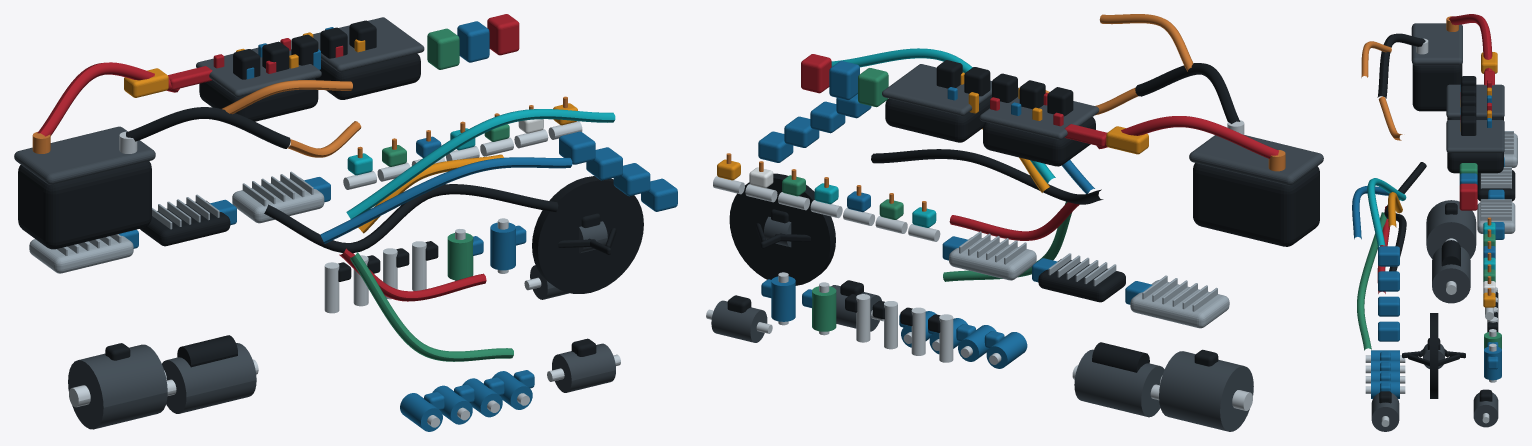
The model's file is generic_electrical_control.glb.
3 views of the same model, side by side, from view 1: azimuth 30°, elevation 25°; view 2: azimuth 150°, elevation 25°; view 3: azimuth 270°, elevation 25° (orthographic). The views are drawn at different scales.
Visible parts, largest first — view 1: system_mesh__radiator_fan__shroud, system_mesh__battery__case, system_mesh__alternator__motor_case, system_mesh__battery__top, system_mesh__starter_motor__motor_case, system_mesh__engine_harness__loom, system_mesh__sensor_harness__loom, system_mesh__transmission_solenoids__coil_body (×4), system_mesh__abs_harness__loom, system_mesh__interior_fuse_box__junction_box, system_mesh__interior_fuse_box__service_lid, system_mesh__engine_fuse_box__junction_box (+31 smaller); view 2: system_mesh__battery__case, system_mesh__radiator_fan__shroud, system_mesh__alternator__motor_case, system_mesh__starter_motor__motor_case, system_mesh__battery__top, system_mesh__engine_fuse_box__junction_box, system_mesh__interior_fuse_box__junction_box, system_mesh__interior_fuse_box__service_lid, system_mesh__engine_harness__loom, system_mesh__engine_fuse_box__service_lid, system_mesh__ecm__sealed_case, system_mesh__main_positive_cable__b_plus (+30 smaller); view 3: system_mesh__alternator__motor_case, system_mesh__battery__case, system_mesh__battery__top, system_mesh__interior_fuse_box__service_lid, system_mesh__starter_motor__motor_case, system_mesh__engine_fuse_box__service_lid, system_mesh__transmission_harness__loom, system_mesh__interior_fuse_box__junction_box, system_mesh__transmission_solenoids__coil_body (×4), system_mesh__main_negative_cable__negative, system_mesh__abs_pump__motor_case, system_mesh__sensor_harness__loom (+30 smaller).
Part boxes in pixels (x1=…): system_mesh__radiator_fan__shroud: x1=532, y1=176, x2=643, y2=293; system_mesh__battery__case: x1=18, y1=161, x2=151, y2=249; system_mesh__alternator__motor_case: x1=68, y1=344, x2=167, y2=429; system_mesh__battery__top: x1=14, y1=126, x2=155, y2=184; system_mesh__starter_motor__motor_case: x1=162, y1=343, x2=256, y2=413; system_mesh__engine_harness__loom: x1=264, y1=184, x2=558, y2=253; system_mesh__sensor_harness__loom: x1=346, y1=109, x2=615, y2=218; system_mesh__transmission_solenoids__coil_body (×4): x1=400, y1=371, x2=532, y2=431; system_mesh__abs_harness__loom: x1=320, y1=157, x2=572, y2=243; system_mesh__interior_fuse_box__junction_box: x1=315, y1=53, x2=420, y2=99; system_mesh__interior_fuse_box__service_lid: x1=313, y1=17, x2=424, y2=72; system_mesh__engine_fuse_box__junction_box: x1=199, y1=78, x2=318, y2=121; system_mesh__battery__case: x1=1193, y1=163, x2=1319, y2=246; system_mesh__radiator_fan__shroud: x1=729, y1=173, x2=835, y2=285; system_mesh__alternator__motor_case: x1=1159, y1=351, x2=1253, y2=431; system_mesh__starter_motor__motor_case: x1=1074, y1=349, x2=1164, y2=417; system_mesh__battery__top: x1=1189, y1=135, x2=1323, y2=185; system_mesh__engine_fuse_box__junction_box: x1=983, y1=117, x2=1095, y2=166; system_mesh__interior_fuse_box__junction_box: x1=885, y1=95, x2=991, y2=142; system_mesh__interior_fuse_box__service_lid: x1=882, y1=64, x2=992, y2=116; system_mesh__engine_harness__loom: x1=871, y1=149, x2=1103, y2=204; system_mesh__engine_fuse_box__service_lid: x1=979, y1=87, x2=1099, y2=139; system_mesh__ecm__sealed_case: x1=1130, y1=280, x2=1229, y2=328; system_mesh__main_positive_cable__b_plus: x1=1097, y1=116, x2=1278, y2=158; system_mesh__alternator__motor_case: x1=1426, y1=200, x2=1476, y2=258; system_mesh__battery__case: x1=1412, y1=64, x2=1462, y2=111; system_mesh__battery__top: x1=1411, y1=23, x2=1462, y2=65; system_mesh__interior_fuse_box__service_lid: x1=1446, y1=120, x2=1504, y2=152; system_mesh__starter_motor__motor_case: x1=1432, y1=247, x2=1470, y2=303; system_mesh__engine_fuse_box__service_lid: x1=1446, y1=84, x2=1504, y2=117; system_mesh__transmission_harness__loom: x1=1357, y1=212, x2=1386, y2=350; system_mesh__interior_fuse_box__junction_box: x1=1447, y1=152, x2=1503, y2=173; system_mesh__transmission_solenoids__coil_body (×4): x1=1371, y1=350, x2=1399, y2=398; system_mesh__main_negative_cable__negative: x1=1377, y1=33, x2=1425, y2=98; system_mesh__abs_pump__motor_case: x1=1371, y1=393, x2=1399, y2=431; system_mesh__sensor_harness__loom: x1=1367, y1=178, x2=1406, y2=247.
Bounding box in the file's own units: 7.11 × 4.35 × 2.39.
